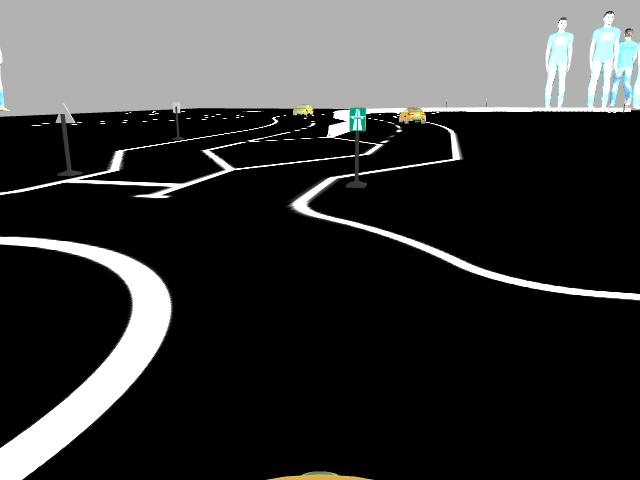HighwayEntrance: (347, 105, 368, 132)
